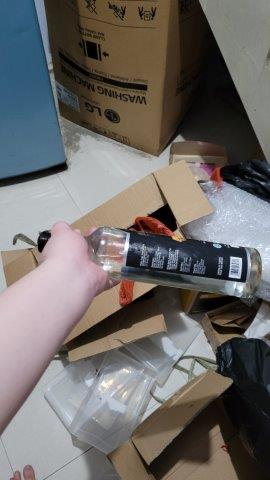botolkaca: (34, 227, 263, 308)
